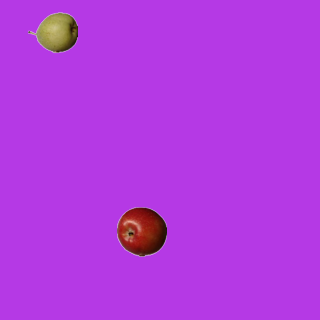Apple Braeburn: (116, 206, 166, 256)
Pear: (27, 7, 77, 57)
